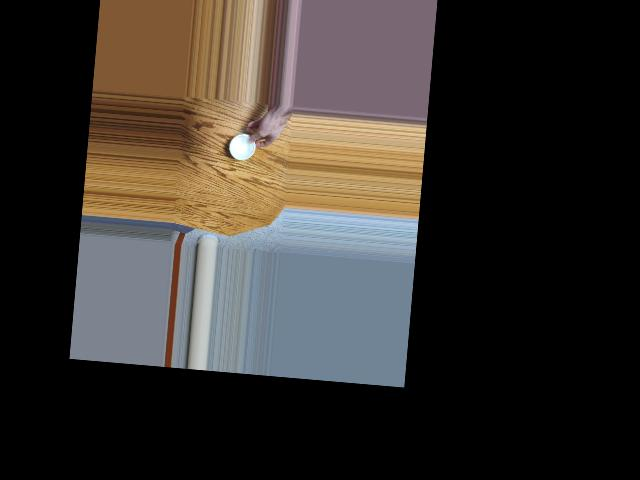cotage: (227, 130, 259, 161)
